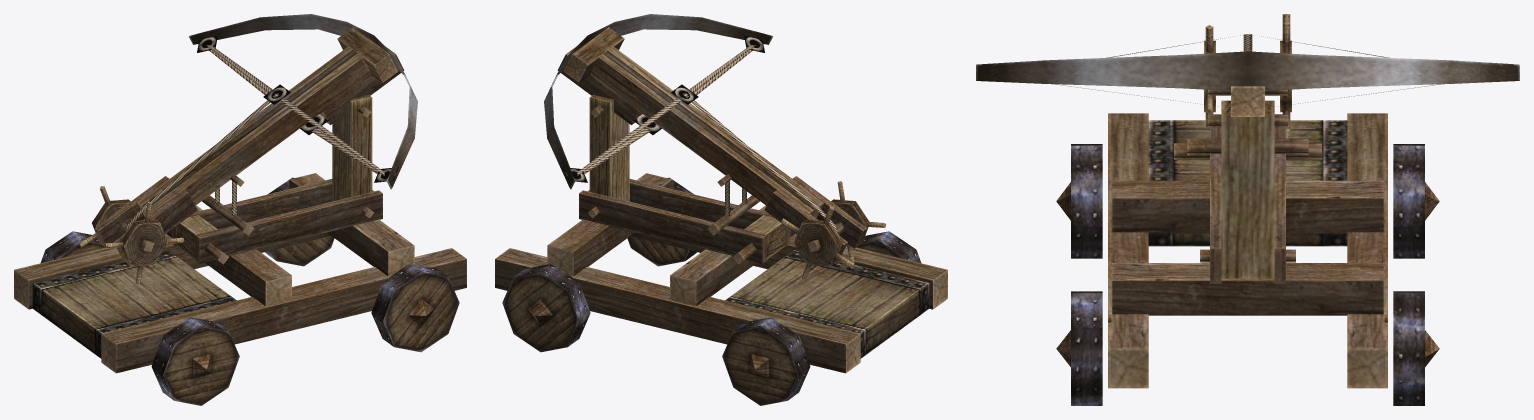
File: Balista.FBX
The picture shows the model from 3 angles, left to right: view 1: azimuth 30°, elevation 25°; view 2: azimuth 150°, elevation 25°; view 3: azimuth 270°, elevation 25°; orthographic projection. The views are drawn at different scales.
Parts seen in each view (by area): view 1: Ballista; view 2: Ballista; view 3: Ballista.
Part boxes in pixels (x1,y1,x2,y2): Ballista: [14, 14, 466, 405]; Ballista: [495, 14, 947, 405]; Ballista: [976, 14, 1519, 405].
Size of the model in its own units: 596 by 430 by 582.
